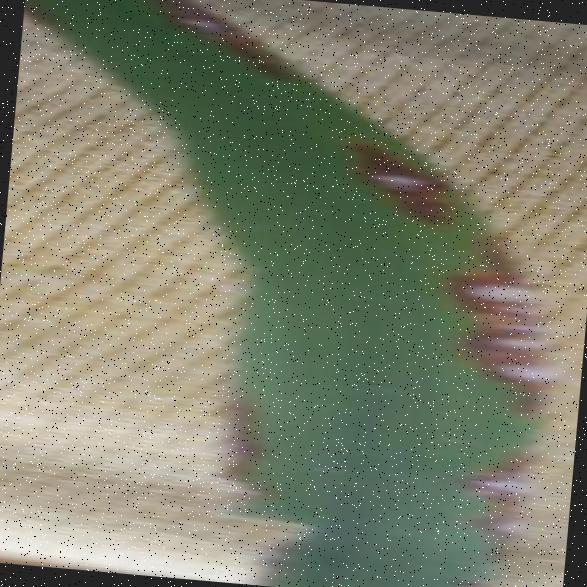Leaf_smut: (348, 124, 480, 248), (130, 0, 307, 91), (422, 248, 554, 320), (452, 339, 564, 399), (440, 308, 560, 362), (450, 457, 534, 520), (456, 494, 550, 550)
